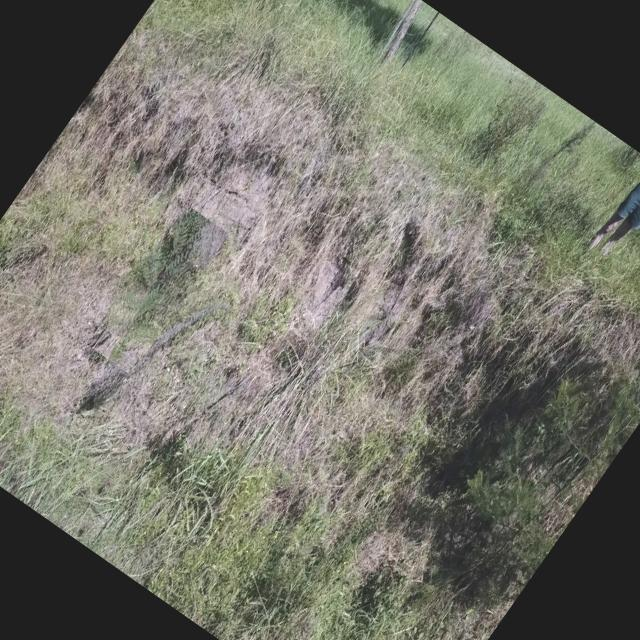Mysore-Thorn-Weed: (86, 203, 229, 374)
